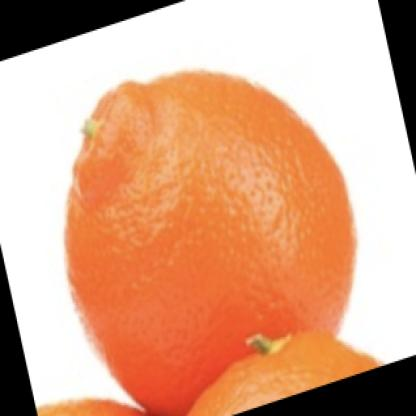fresh: (67, 71, 357, 415)
